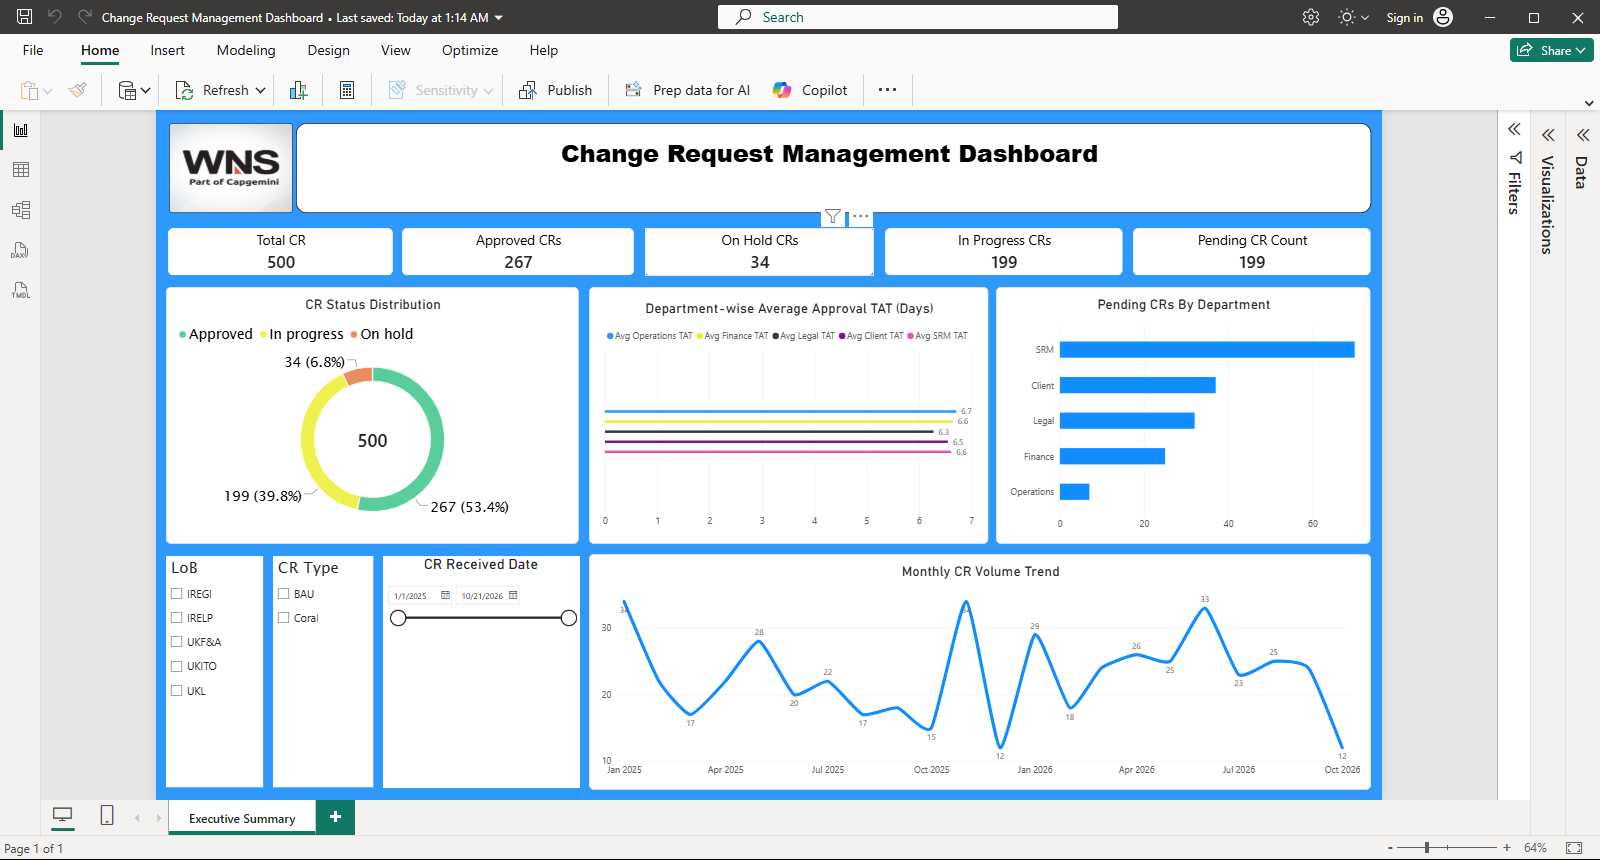

The dashboard page shown, as its layout file describes it:
{"tool":"powerbi","page":{"name":"Executive Summary","canvas":[1920,1080],"ordinal":0},"visuals":[{"type":"image","box":[20.1,20.1,193.6,140.7],"z":0},{"type":"textbox","box":[219.2,20.1,1682.5,140.7],"z":1},{"type":"cardVisual","fields":{"Data":["CR Dataset.Total CR"]},"box":[18.3,184.5,352.6,74.9],"z":2},{"type":"cardVisual","fields":{"Data":["CR Dataset.Approved CRs"]},"box":[385.5,184.5,363.5,74.9],"z":3},{"type":"cardVisual","fields":{"Data":["CR Dataset.On Hold CRs"]},"box":[765.4,184.5,358.1,74.9],"z":4},{"type":"cardVisual","fields":{"Data":["CR Dataset.In Progress CRs"]},"box":[1141.8,184.5,372.7,74.9],"z":5},{"type":"cardVisual","fields":{"Data":["CR Dataset.Pending CR Count"]},"box":[1529.1,184.5,372.7,74.9],"z":6},{"type":"donutChart","title":"CR Status Distribution","fields":{"Category":["CR Dataset.Status"],"Y":["Count(CR Dataset.Change Request Number)"]},"box":[15.7,277,646.4,402.3],"z":7},{"type":"clusteredBarChart","title":"Department-wise Average Approval TAT (Days)","fields":{"Y":["CR Dataset.Avg Operations TAT","CR Dataset.Avg Finance TAT","CR Dataset.Avg Legal TAT","CR Dataset.Avg Client TAT","CR Dataset.Avg SRM TAT"]},"box":[677.8,277.7,624.8,401.9],"z":8},{"type":"clusteredBarChart","title":"Pending CRs By Department","fields":{"Category":["CR Dataset.Pending Department"],"Y":["CR Dataset.Pending CR Count"]},"box":[1315.3,277.7,586.4,401.9],"z":9},{"type":"lineChart","title":"Monthly CR Volume Trend","fields":{"Category":["CR Dataset.CR Received Date.Variation.Date Hierarchy.Year","CR Dataset.CR Received Date.Variation.Date Hierarchy.Month"],"Y":["Count(CR Dataset.Change Request Number)"]},"box":[677.8,694.2,1224,369],"z":10},{"type":"slicer","title":"CR Received Date","fields":{"Values":["CR Dataset.CR Received Date"]},"box":[355.3,698.1,306.8,361.6],"z":11},{"type":"slicer","fields":{"Values":["CR Dataset.LoB"]},"box":[15.7,698.1,151.8,361.6],"z":12},{"type":"slicer","fields":{"Values":["CR Dataset.CR Type"]},"box":[183.1,698.1,156.5,361.6],"z":13}]}

Visuals, with their boxes on the page's 1920x1080 design canvas (x1, y1, x2, y2). These are canvas units, not pixel positions in the 1600x860 screenshot, which may show the page scaled, cropped or inside an application window:
image: l=20, t=20, r=214, b=161
textbox: l=219, t=20, r=1902, b=161
cardVisual - CR Dataset.Total CR: l=18, t=184, r=371, b=259
cardVisual - CR Dataset.Approved CRs: l=386, t=184, r=749, b=259
cardVisual - CR Dataset.On Hold CRs: l=765, t=184, r=1124, b=259
cardVisual - CR Dataset.In Progress CRs: l=1142, t=184, r=1514, b=259
cardVisual - CR Dataset.Pending CR Count: l=1529, t=184, r=1902, b=259
"CR Status Distribution" donutChart: l=16, t=277, r=662, b=679
"Department-wise Average Approval TAT (Days)" clusteredBarChart: l=678, t=278, r=1303, b=680
"Pending CRs By Department" clusteredBarChart: l=1315, t=278, r=1902, b=680
"Monthly CR Volume Trend" lineChart: l=678, t=694, r=1902, b=1063
"CR Received Date" slicer: l=355, t=698, r=662, b=1060
slicer - CR Dataset.LoB: l=16, t=698, r=168, b=1060
slicer - CR Dataset.CR Type: l=183, t=698, r=340, b=1060
